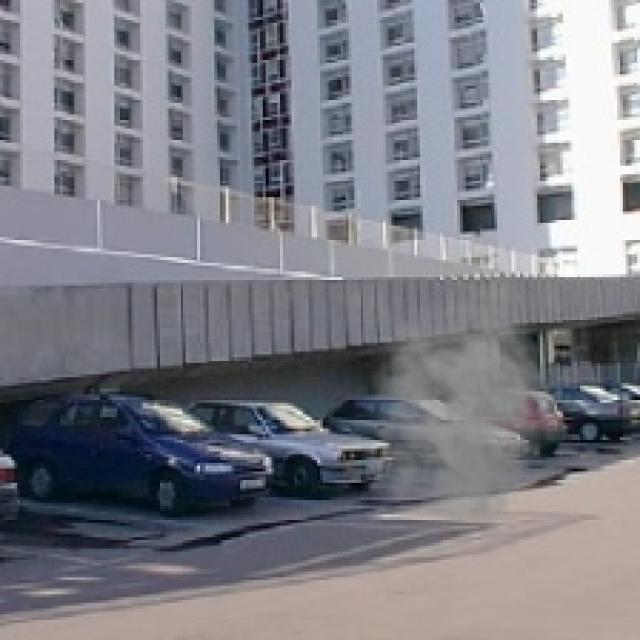Smoke: (348, 286, 560, 552)
